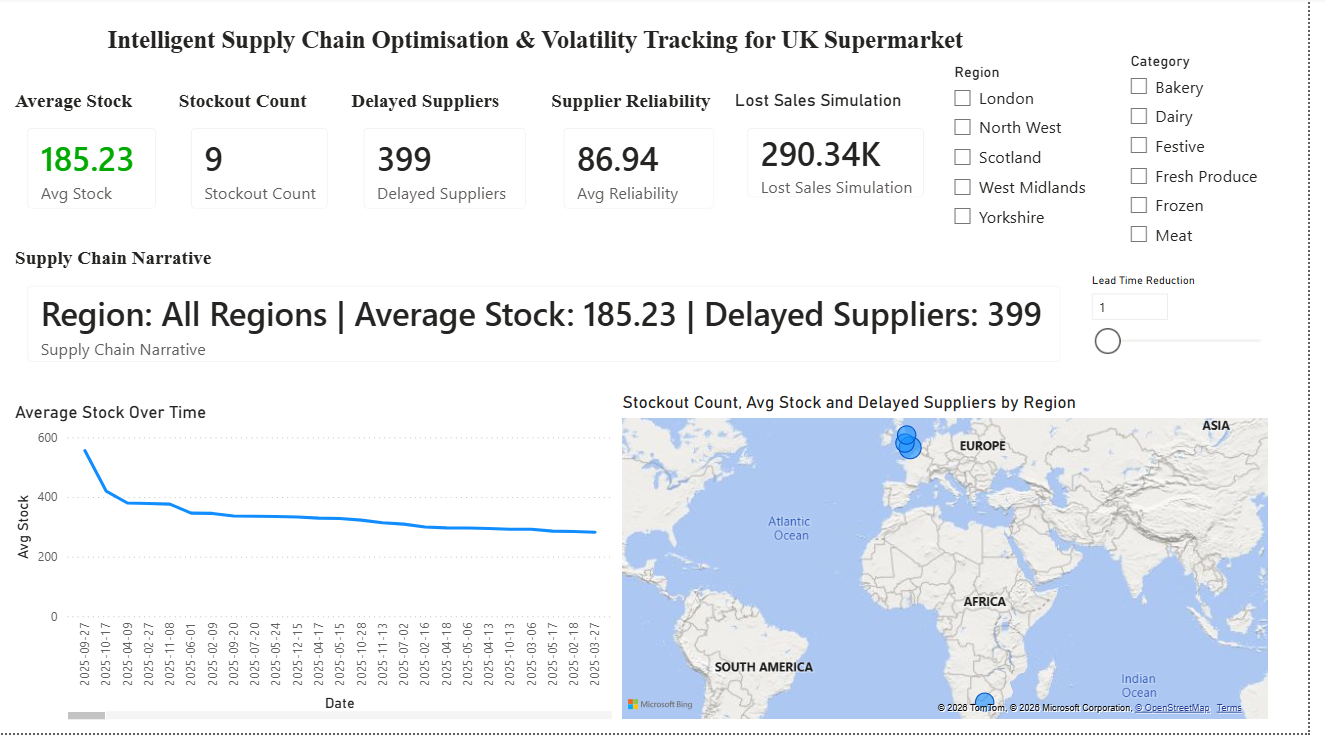

This screenshot's page, from the dashboard's own definition file:
{"tool":"powerbi","page":{"name":"Page 1","canvas":[1280,720],"ordinal":0},"visuals":[{"type":"cardVisual","title":"Stockout Count","fields":{"Data":["Fact_Inventory.Stockout Count"]},"box":[170.2,90.6,168.8,134.5],"z":0},{"type":"cardVisual","title":"Delayed Suppliers","fields":{"Data":["Fact_Inventory.Delayed Suppliers"]},"box":[338.9,90.6,193.5,134.5],"z":1000},{"type":"cardVisual","title":"Supplier Reliability","fields":{"Data":["Fact_Inventory.Avg Reliability"]},"box":[533.8,90.6,181.1,134.5],"z":2000},{"type":"cardVisual","title":"Average Stock","fields":{"Data":["Fact_Inventory.Avg Stock"]},"box":[9.6,90.6,160.5,134.5],"z":3000},{"type":"lineChart","title":"Average Stock Over Time","fields":{"Y":["Fact_Inventory.Avg Stock"],"Category":["Fact_Inventory.Date"]},"box":[9.6,396.6,594.2,315.6],"z":4000},{"type":"slicer","fields":{"Values":["Dim_Store.Region"]},"box":[920.8,60.4,163.3,193.5],"z":5000},{"type":"slicer","fields":{"Values":["Fact_Inventory.Category"]},"box":[1093.7,49.4,150.9,205.8],"z":6000},{"type":"map","fields":{"Category":["Dim_Store.Region"],"Size":["Fact_Inventory.Stockout Count"]},"box":[603.8,387,640.8,325.2],"z":7000},{"type":"cardVisual","title":"Supply Chain Narrative","fields":{"Data":["Fact_Inventory.Supply Chain Narrative"]},"box":[9.6,244.3,1045.6,130.4],"z":8000},{"type":"slicer","fields":{"Values":["Lead Time Reduction.Lead Time Reduction"]},"box":[1055.2,264.8,200.3,109.8],"z":9000},{"type":"cardVisual","title":"Lost Sales Simulation","fields":{"Data":["Lead Time Reduction.Lost Sales Simulation"]},"box":[713.6,90.6,207.2,123.5],"z":10000},{"type":"textbox","box":[100.2,23.3,868.6,37],"z":10001}]}

Visuals, with their boxes in screenshot pixels (x1, y1, x2, y2), scaled from the page's 1280x720 canvas onto the 1325x742 screenshot:
"Stockout Count" cardVisual: detection(176, 93, 351, 232)
"Delayed Suppliers" cardVisual: detection(351, 93, 551, 232)
"Supplier Reliability" cardVisual: detection(553, 93, 740, 232)
"Average Stock" cardVisual: detection(10, 93, 176, 232)
"Average Stock Over Time" lineChart: detection(10, 409, 625, 734)
slicer - Dim_Store.Region: detection(953, 62, 1122, 262)
slicer - Fact_Inventory.Category: detection(1132, 51, 1288, 263)
map - Dim_Store.Region x Fact_Inventory.Stockout Count: detection(625, 399, 1288, 734)
"Supply Chain Narrative" cardVisual: detection(10, 252, 1092, 386)
slicer - Lead Time Reduction.Lead Time Reduction: detection(1092, 273, 1300, 386)
"Lost Sales Simulation" cardVisual: detection(739, 93, 953, 221)
textbox: detection(104, 24, 1003, 62)
